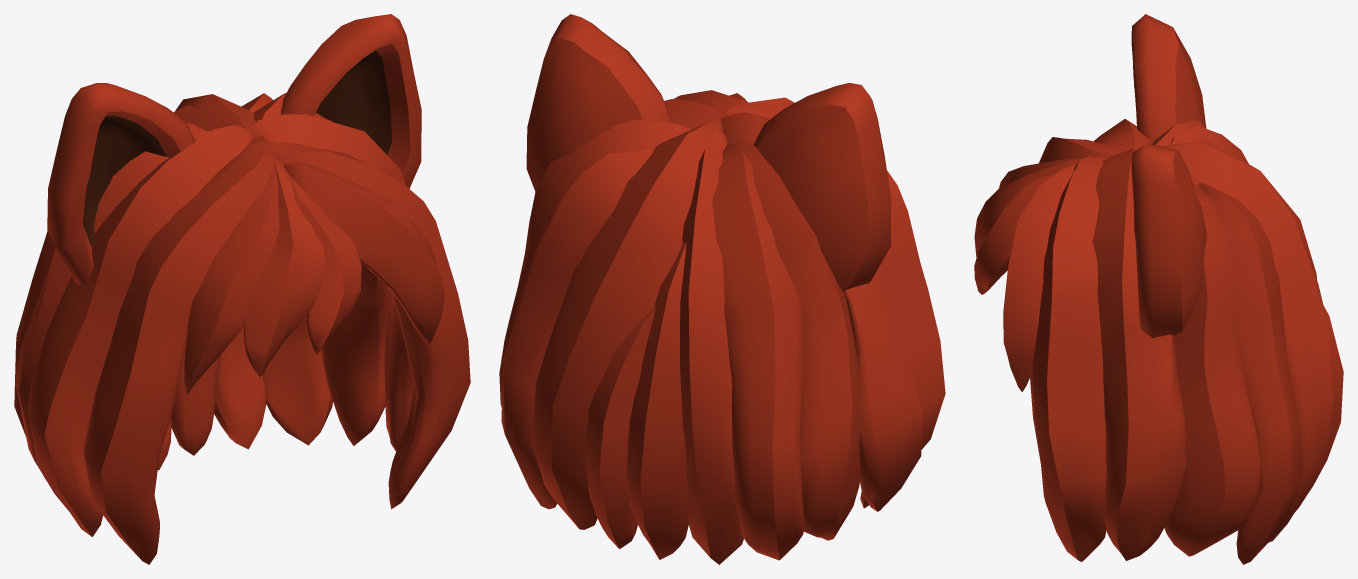
Rendered from CatEars.fbx.
3 renders of one model, left to right at view 1: azimuth 30°, elevation 25°; view 2: azimuth 150°, elevation 25°; view 3: azimuth 270°, elevation 25°, orthographic. The views are drawn at different scales.
Parts seen in each view (by area): view 1: Cat_ears; view 2: Cat_ears; view 3: Cat_ears.
Part boxes in pixels (x1,y1,x2,y2): Cat_ears: (14,14,470,564); Cat_ears: (499,14,945,564); Cat_ears: (974,14,1343,564).
Bounding box in the file's own units: 0.6646 × 0.7281 × 0.5616.
